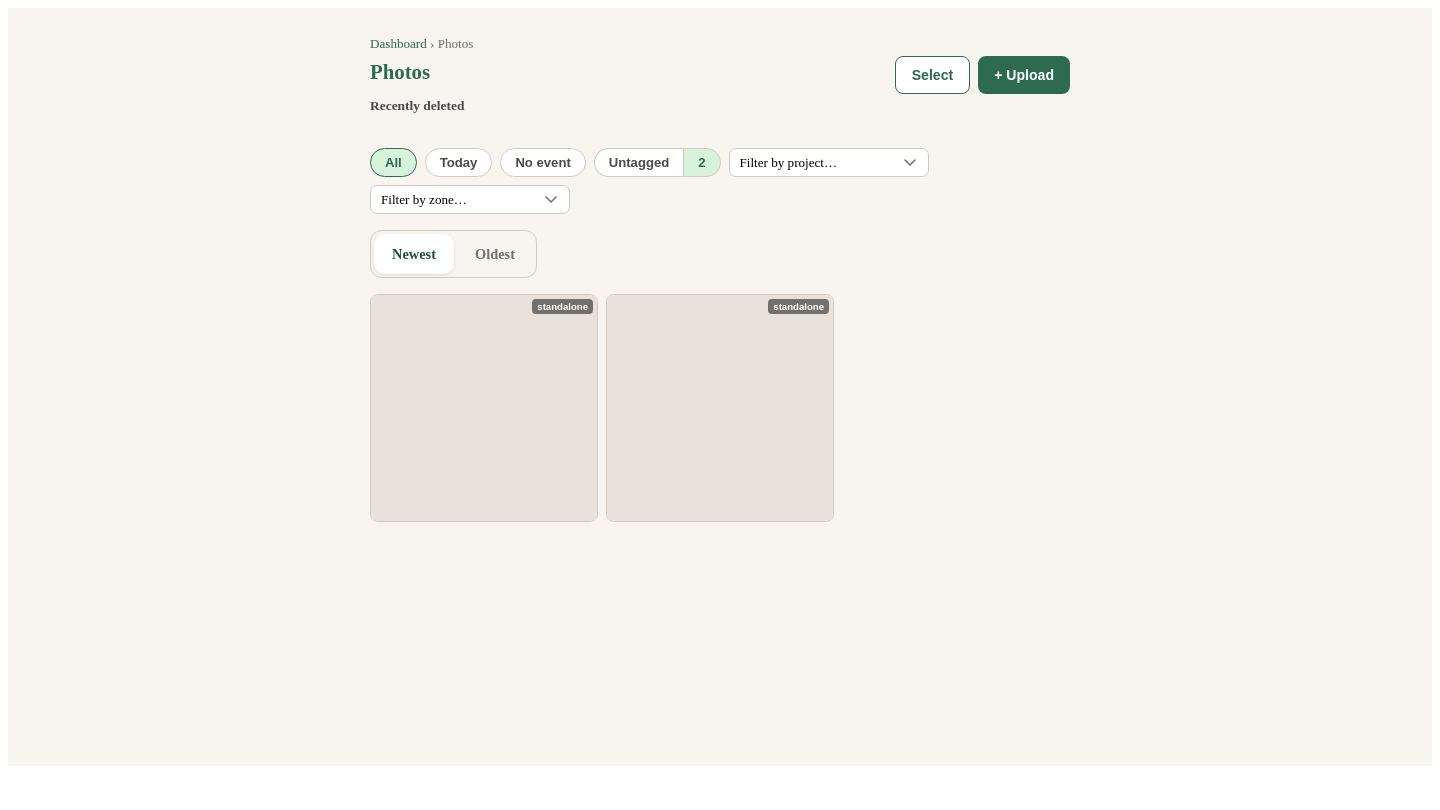
Scenario: PhotoLibrary — opening the drain from a scoped view › heals a stale count rather than opening an empty deck
Expected: the button with test id "pl-filter-untagged-count" is shown, [683,148,720,177]
Select "Spring 2026" in the 1st dropdown showing "Filter by project…" at [828, 162], box [728,148,928,177]
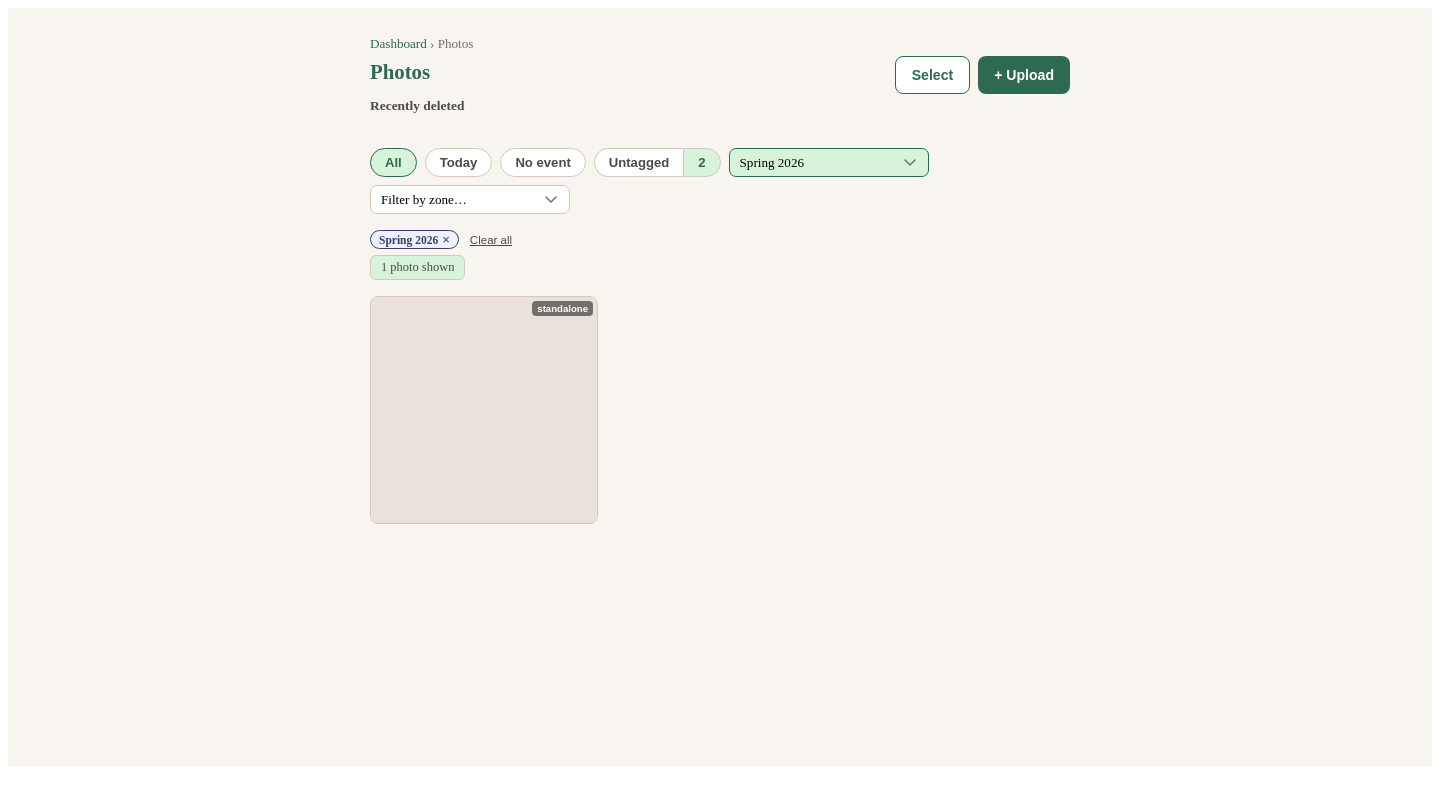
Click the button with test id "pl-filter-untagged-count".
click(702, 162)  # box [683,148,720,177]
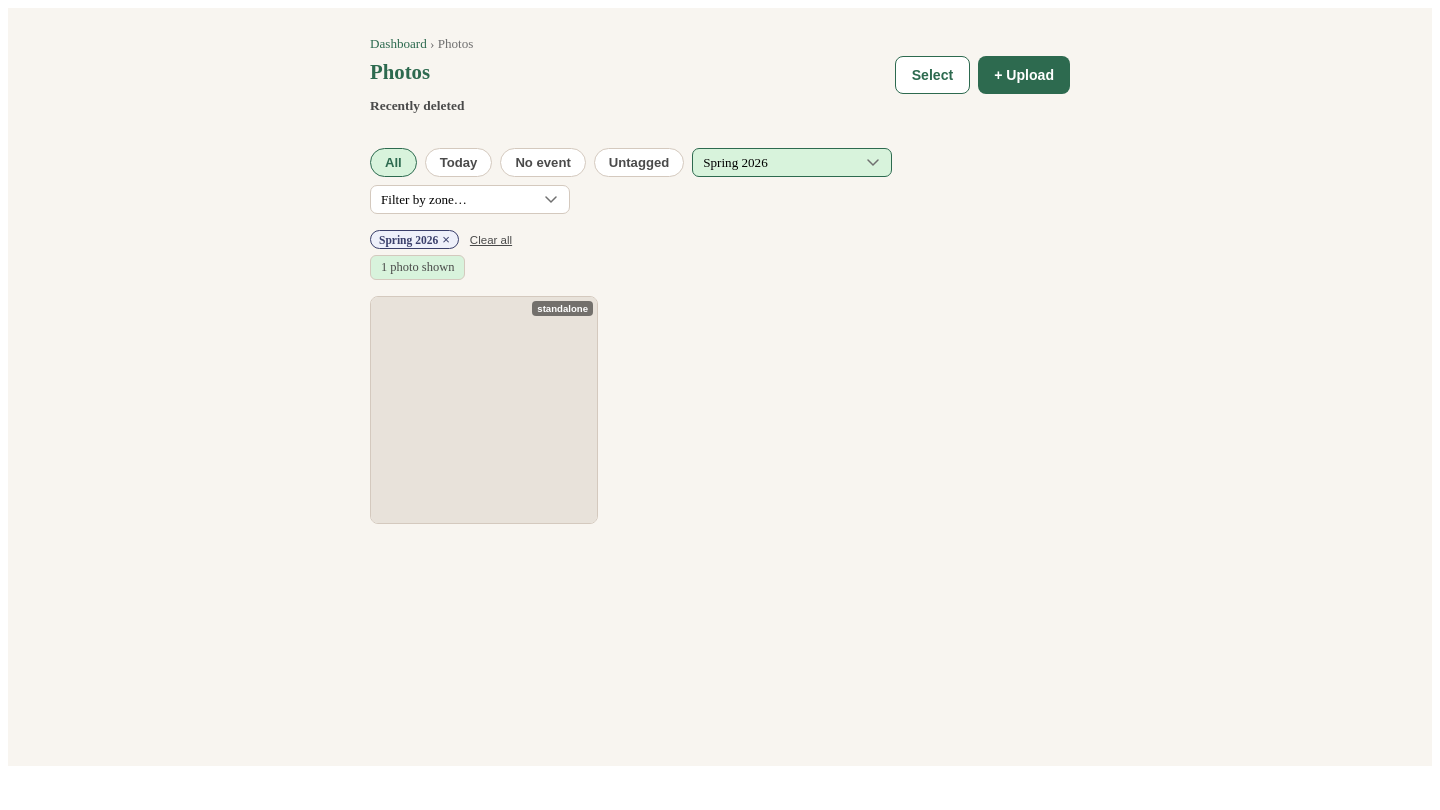
Expected: the button with test id "pl-filter-untagged-count" is gone
